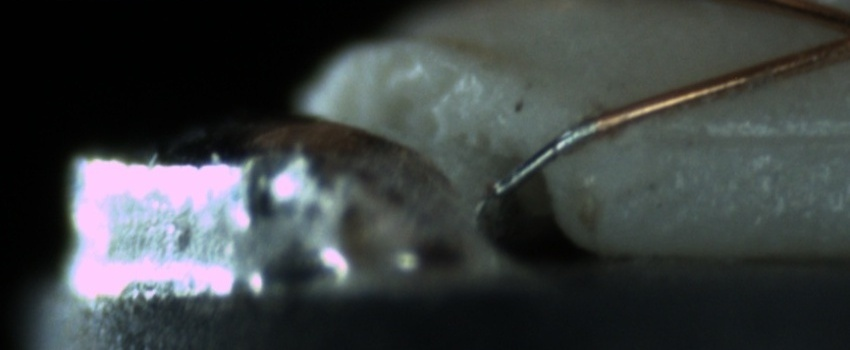DL: (632, 107, 849, 168)
TS: (493, 119, 608, 197)
